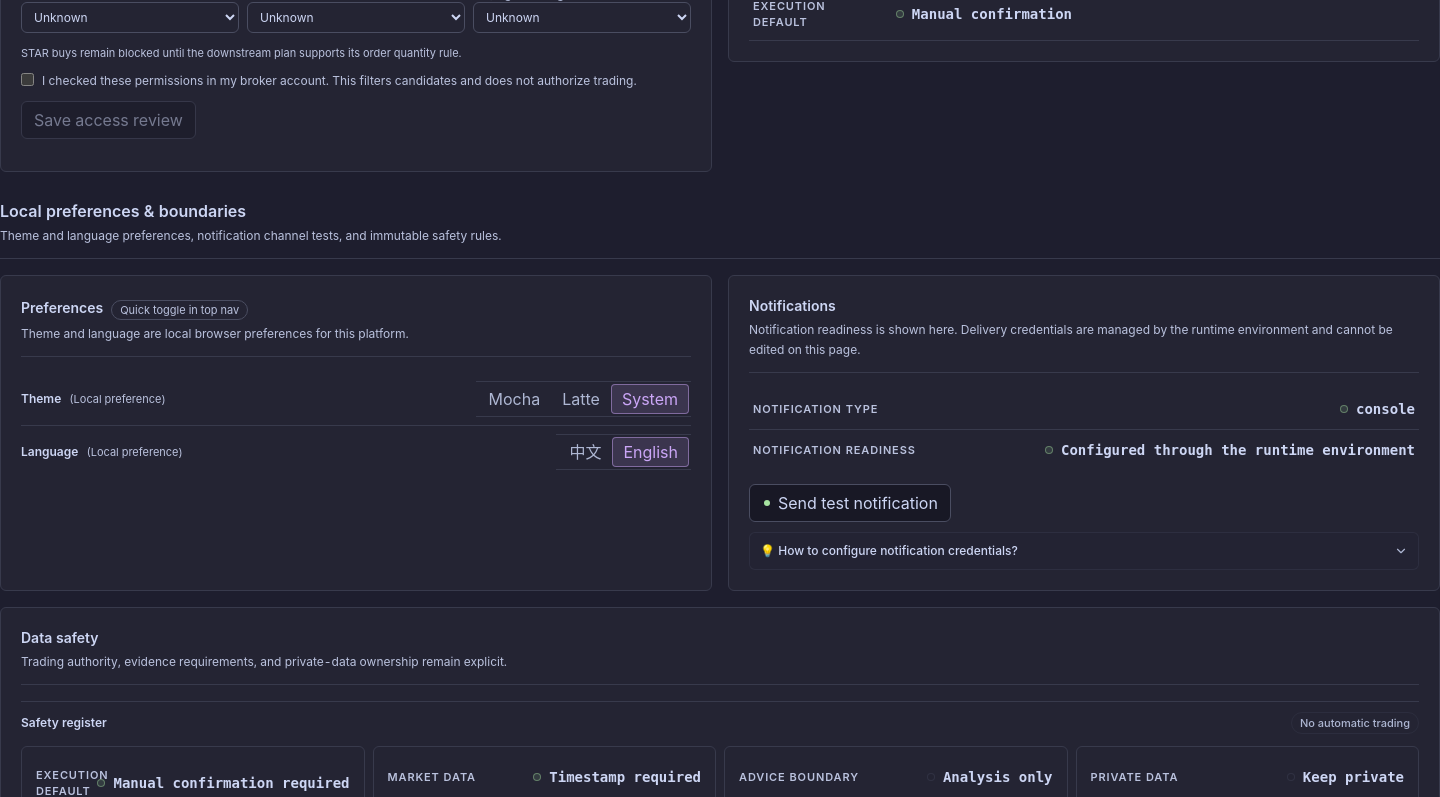
Scenario: updates local theme and language preferences
The image size is (1440, 797).
(page scrolled)
Click the button "Latte". click: [581, 399]
box: [551,384,611,414]
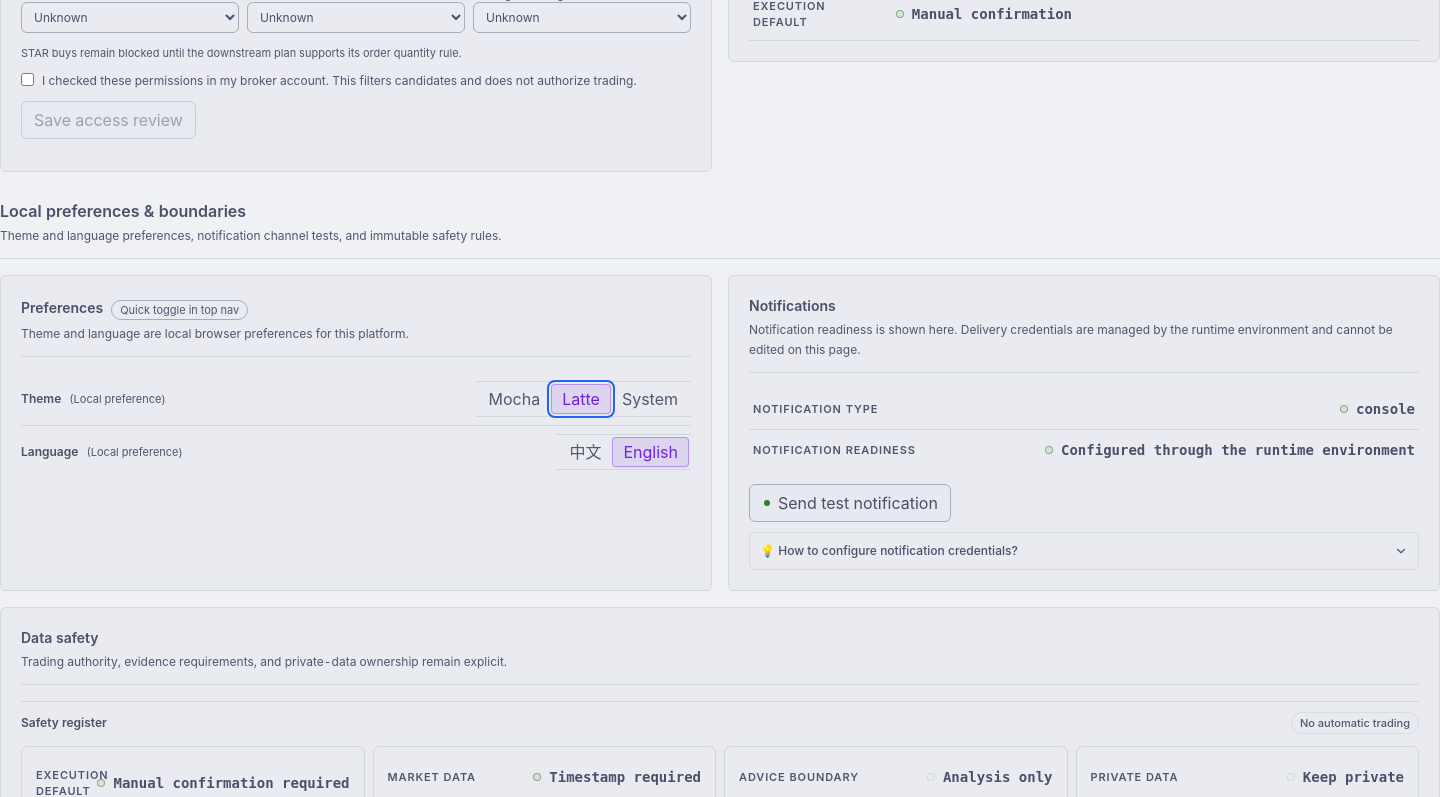
Click the button "中文". click: [585, 452]
box: [558,437,612,467]
(page scrolled)
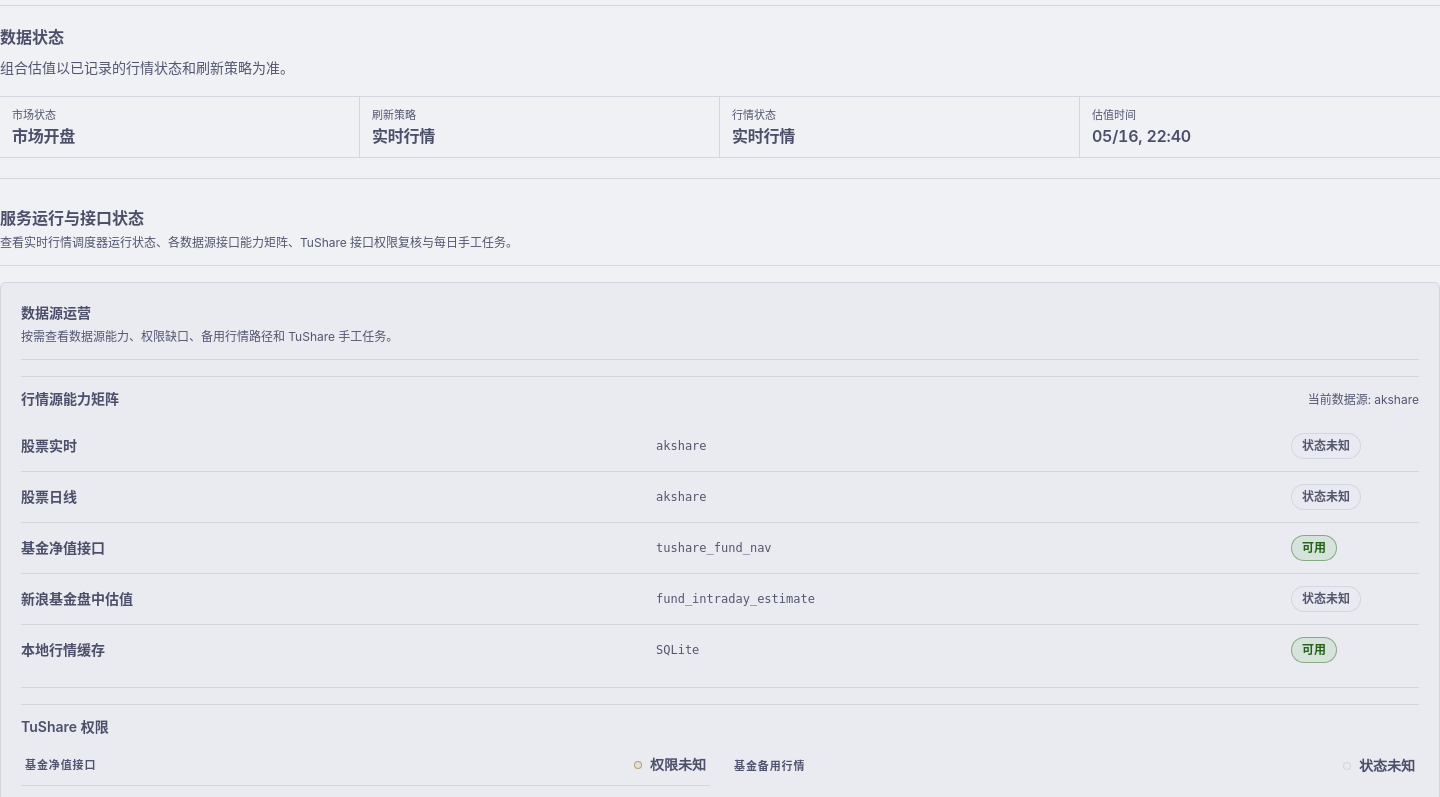
Check: the heading "行情源能力矩阵" is shown, box [21,389,119,409]
